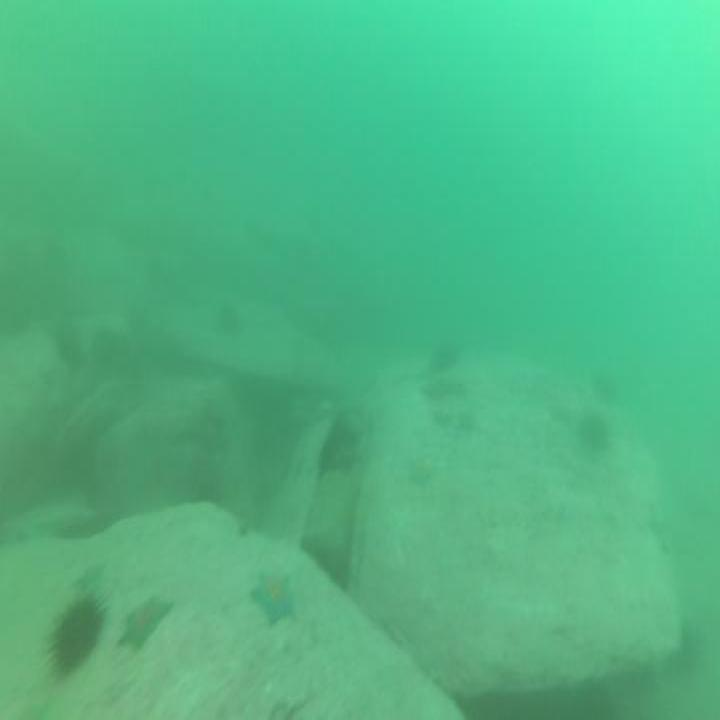echinus: (45, 590, 108, 692), (576, 407, 612, 461)
starfish: (114, 586, 173, 660), (249, 558, 299, 636), (72, 556, 109, 596)
